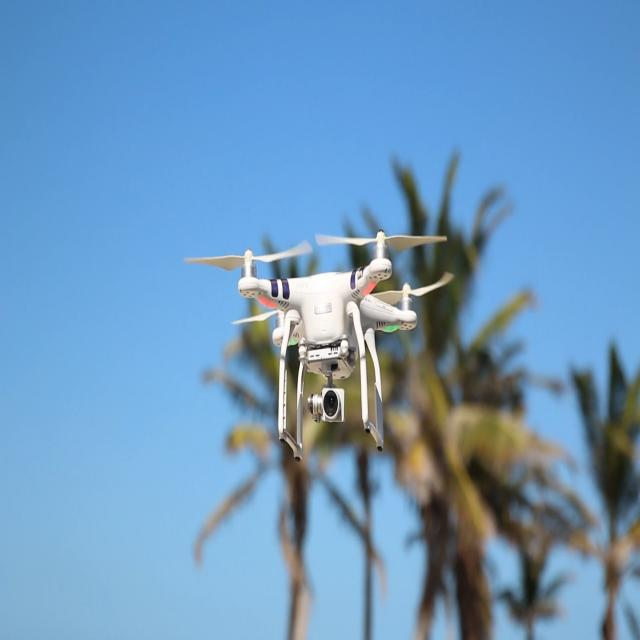Drone: (178, 195, 453, 471)
